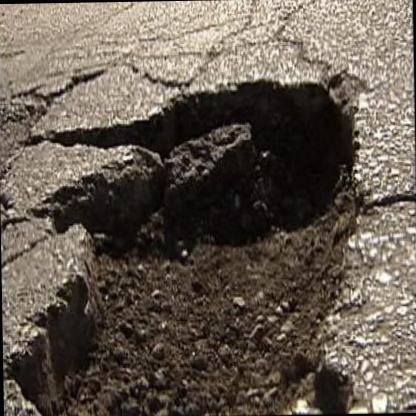pothole: (0, 65, 370, 416)
